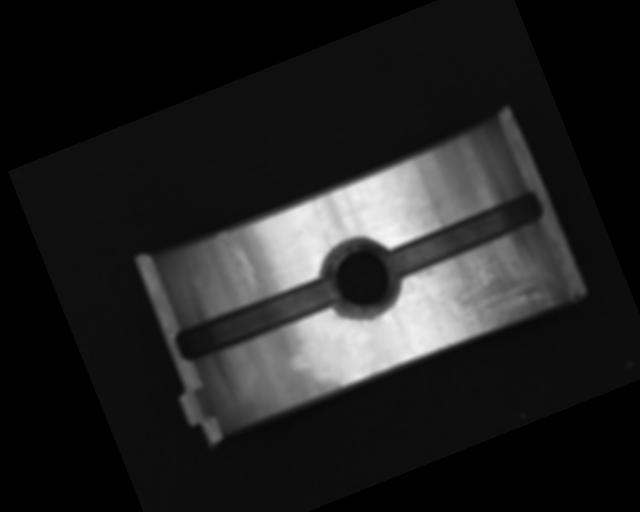gap: (170, 268, 339, 367), (385, 187, 548, 280)
hole: (311, 229, 410, 329)
nick: (216, 224, 265, 299)
scratch: (428, 225, 566, 346)
